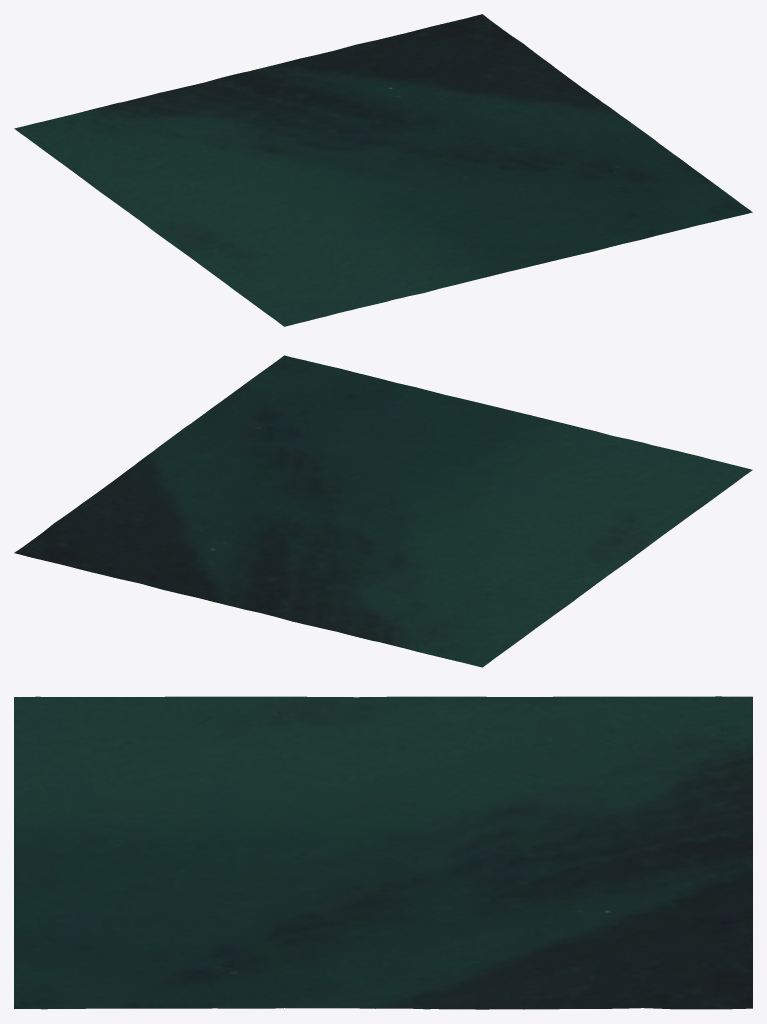
3 views of the same model, one above another, from view 1: azimuth 30°, elevation 25°; view 2: azimuth 150°, elevation 25°; view 3: azimuth 270°, elevation 25° (orthographic). The views are drawn at different scales.
Size of the model in its own units: 209 by 0.6903 by 209.
3 materials, 3 textured.
